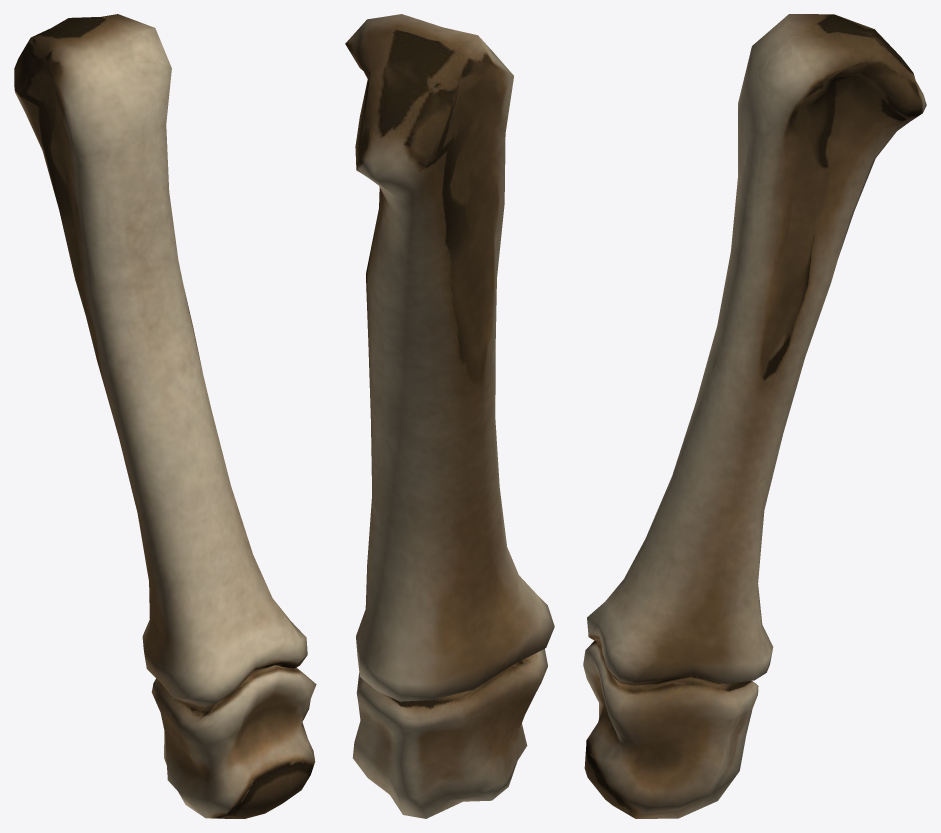
The model's file is Metacarpal_III.glb.
3 views of the same model, side by side, from view 1: azimuth 30°, elevation 25°; view 2: azimuth 150°, elevation 25°; view 3: azimuth 270°, elevation 25° (orthographic). The views are drawn at different scales.
Parts seen in each view (by area): view 1: Metacarpal_III_Left1:Group23447; view 2: Metacarpal_III_Left1:Group23447; view 3: Metacarpal_III_Left1:Group23447.
Part boxes in pixels (left/top/right/bottom): Metacarpal_III_Left1:Group23447: left=14, top=14, right=316, bottom=818; Metacarpal_III_Left1:Group23447: left=345, top=14, right=554, bottom=818; Metacarpal_III_Left1:Group23447: left=583, top=14, right=926, bottom=818.
Size of the model in its own units: 13.69 by 54.8 by 22.53.
Materials: 1 (1 with a texture image).
